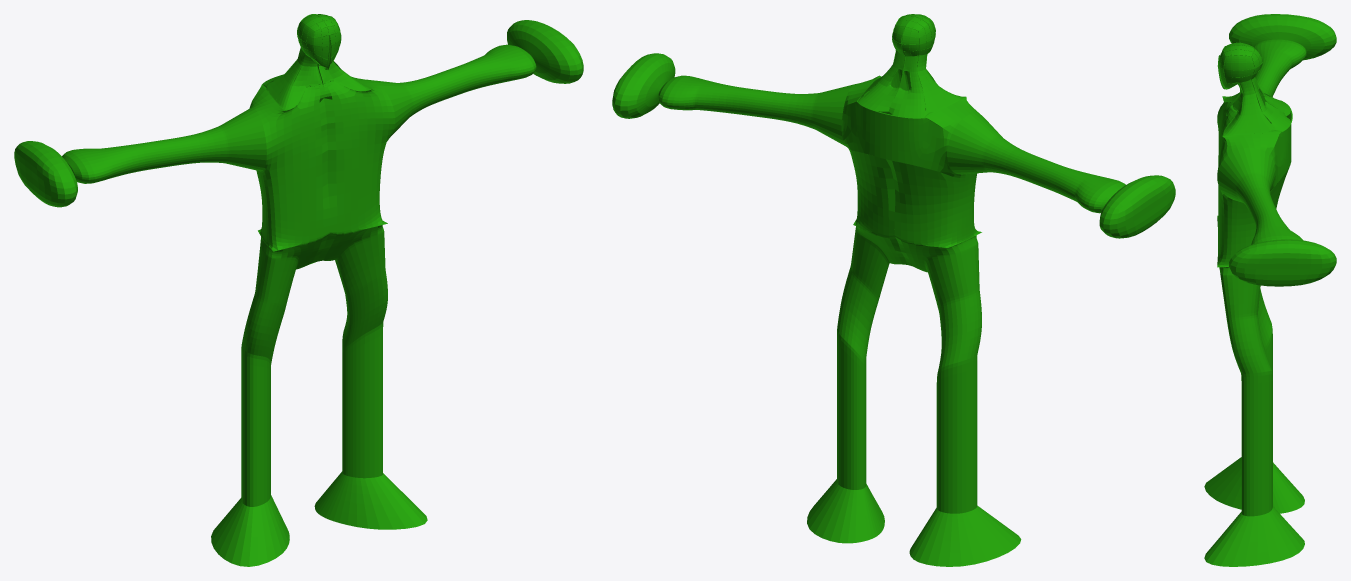
File: albertMesh.obj
3 views of the same model, side by side, from view 1: azimuth 30°, elevation 25°; view 2: azimuth 150°, elevation 25°; view 3: azimuth 270°, elevation 25° (orthographic). The views are drawn at different scales.
Visible parts, largest first — view 1: Cube; view 2: Cube; view 3: Cube.
Part boxes in pixels (x1,y1,x2,y2): Cube: (14,14,583,566); Cube: (612,14,1175,566); Cube: (1204,14,1336,566).
Size of the model in its own units: 44.27 by 41.14 by 10.33.
